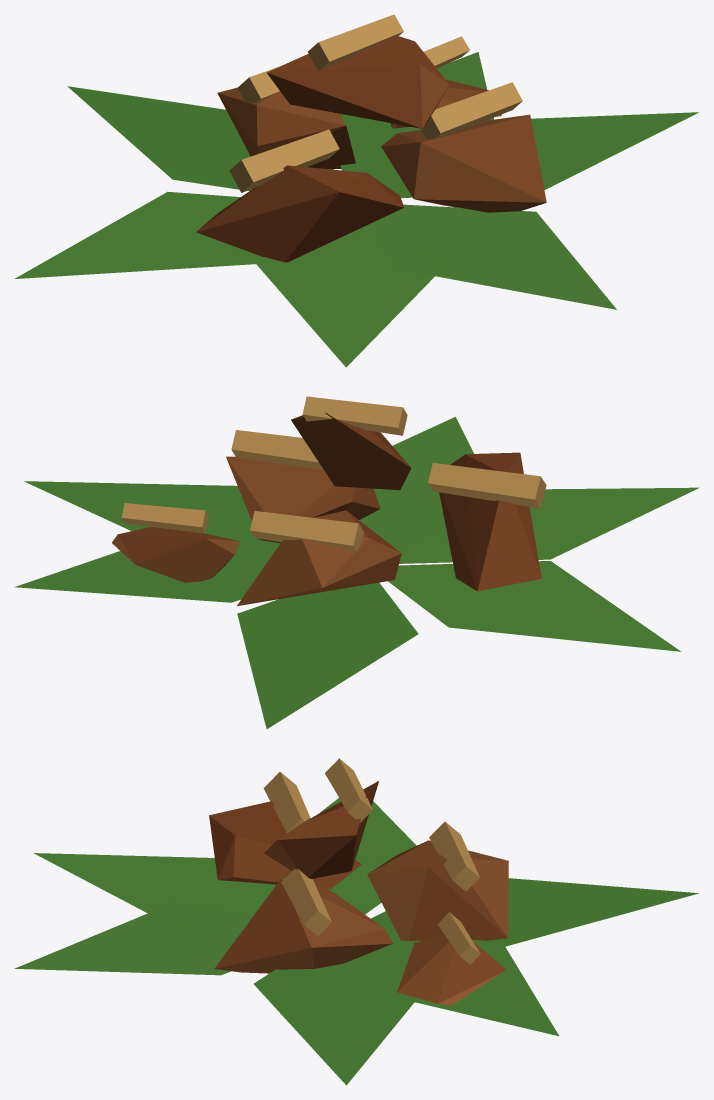
File: storage_cooked_meat.glb
The picture shows the model from 3 angles, top to bottom: view 1: azimuth 30°, elevation 25°; view 2: azimuth 150°, elevation 25°; view 3: azimuth 270°, elevation 25°; orthographic projection. The views are drawn at different scales.
Parts seen in each view (by area): view 1: storage_cooked_meat; view 2: storage_cooked_meat; view 3: storage_cooked_meat.
Boxes of the visible parts, box(x1,y1,x2,y2) form: storage_cooked_meat: box(15, 14, 698, 367); storage_cooked_meat: box(14, 396, 699, 728); storage_cooked_meat: box(14, 758, 698, 1085).
Bounding box in the file's own units: 1.71 × 0.4352 × 1.62.
